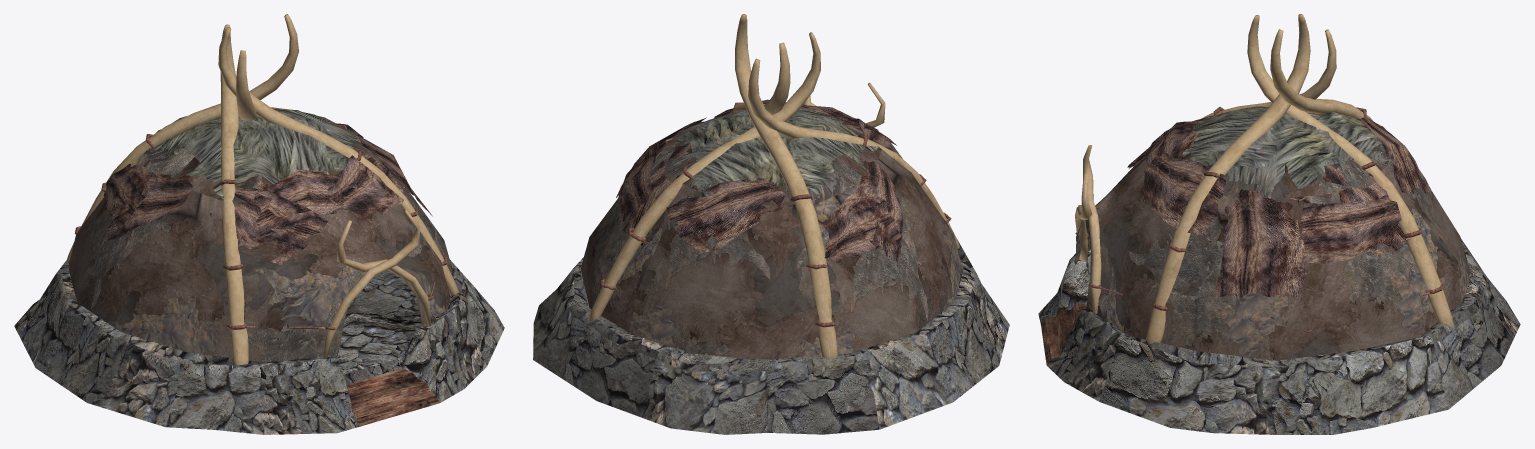
Rendered from boneskin_hut5.FBX.
3 renders of one model, left to right at view 1: azimuth 30°, elevation 25°; view 2: azimuth 150°, elevation 25°; view 3: azimuth 270°, elevation 25°, orthographic.
Parts seen in each view (by area): view 1: boneskin_hut5; view 2: boneskin_hut5; view 3: boneskin_hut5.
Part boxes in pixels (box(x1,y1,x2,y2)): boneskin_hut5: box(14, 14, 504, 434); boneskin_hut5: box(533, 14, 1009, 434); boneskin_hut5: box(1038, 14, 1520, 434).
Bounding box in the file's own units: 63.92 × 47.2 × 64.67.
